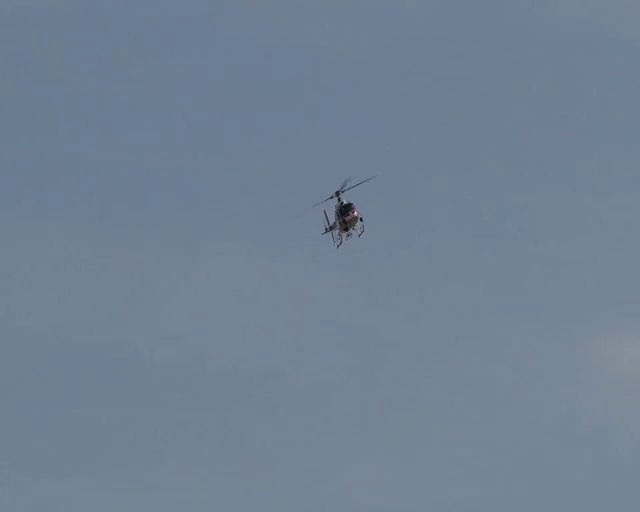HELICOPTER: (312, 174, 377, 248)
